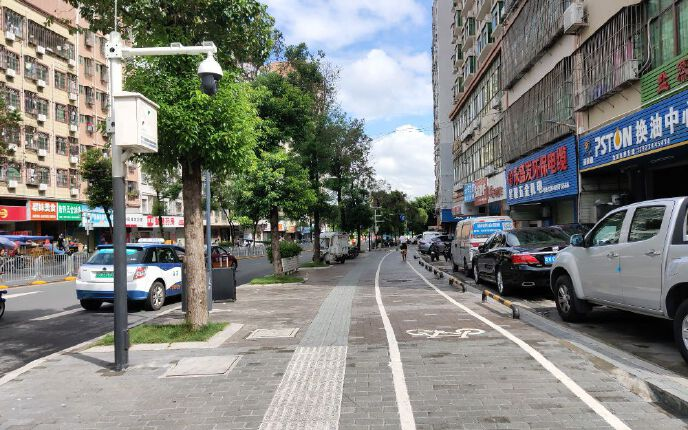乔木: (90, 0, 408, 315), (134, 160, 181, 227), (79, 152, 105, 233)
绿化: (98, 320, 237, 353), (254, 266, 310, 285)
